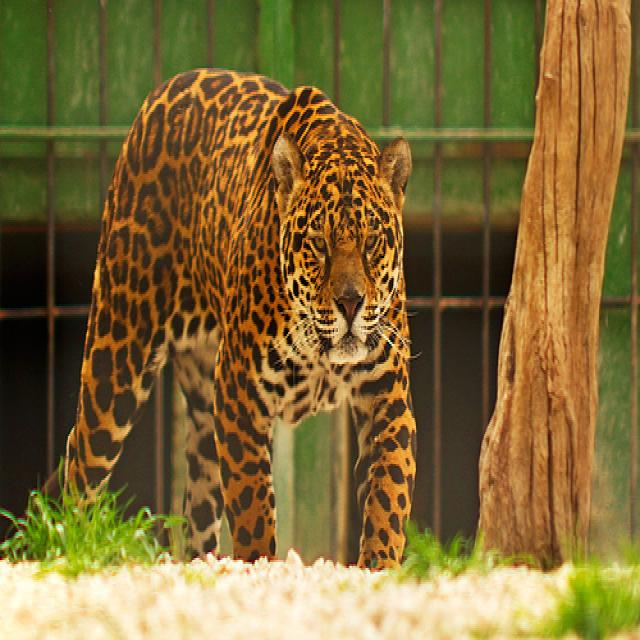Leopard: (58, 64, 417, 570)
